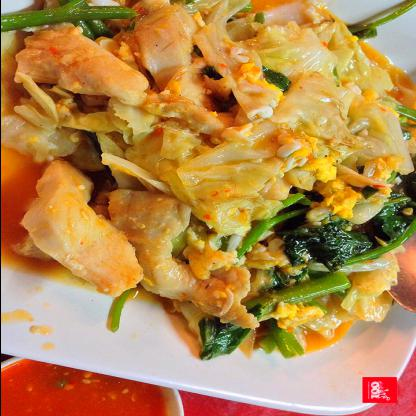Suki: (0, 0, 402, 374)
